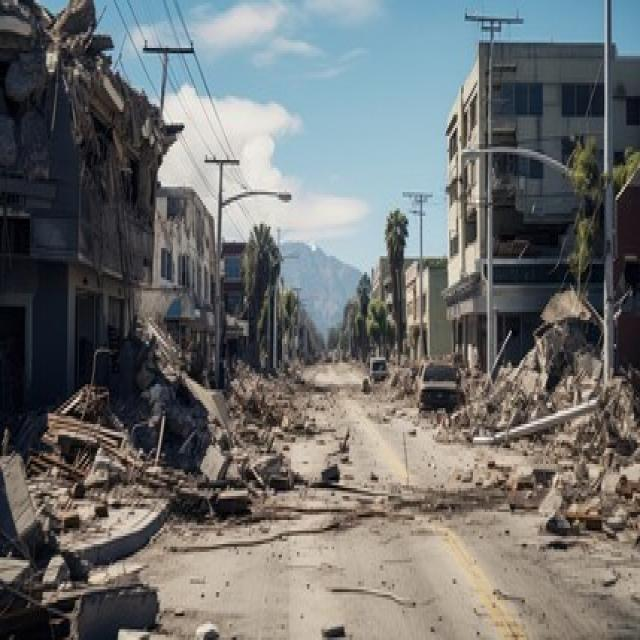Destroyed_building: (0, 2, 344, 640)
